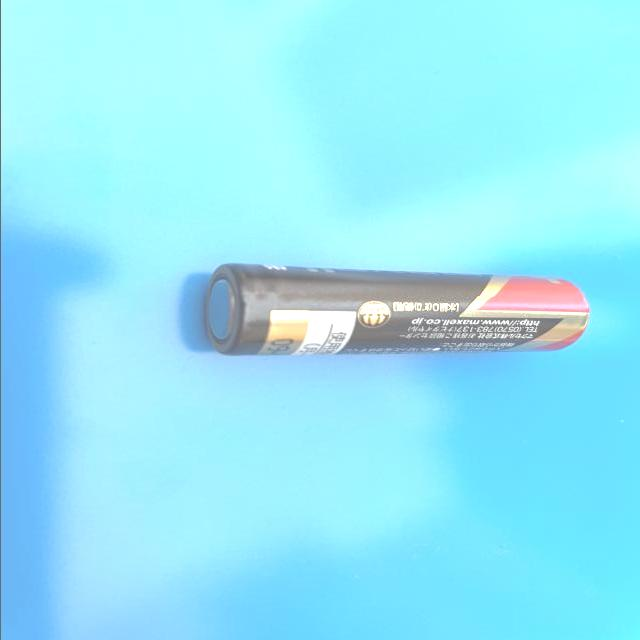AA: (198, 260, 591, 361)
